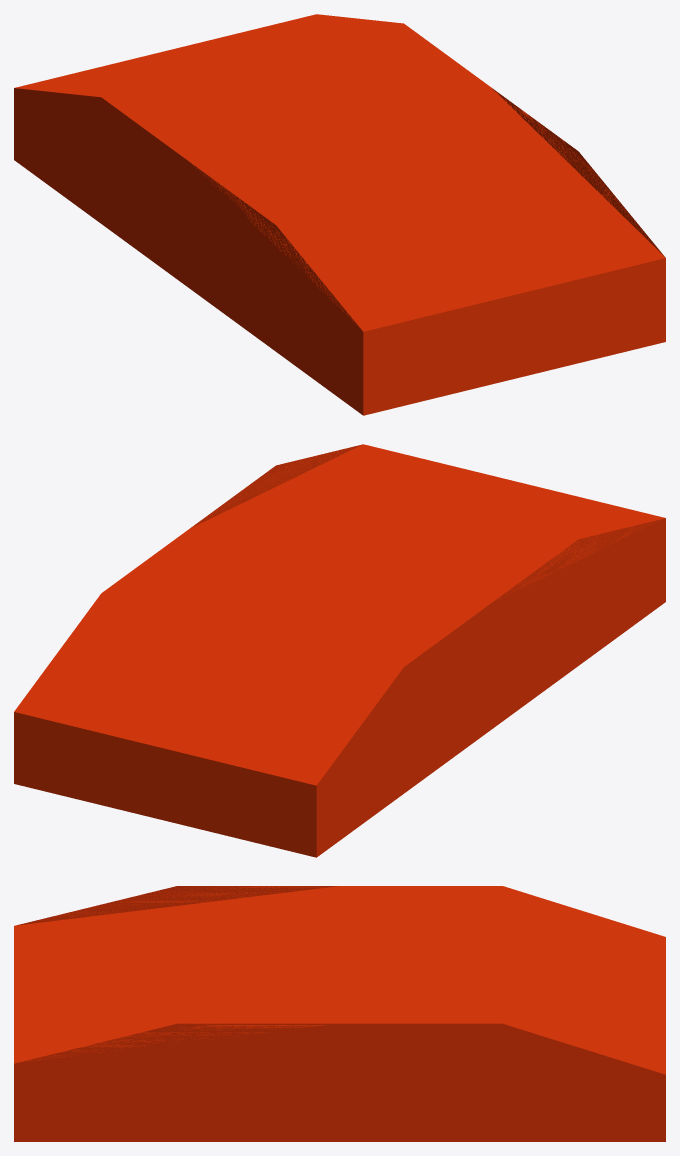
File: ponte.glb
3 renders of one model, top to bottom at view 1: azimuth 30°, elevation 25°; view 2: azimuth 150°, elevation 25°; view 3: azimuth 270°, elevation 25°, orthographic. The views are drawn at different scales.
Parts seen in each view (by area): view 1: Cube.001; view 2: Cube.001; view 3: Cube.001.
Boxes of the visible parts, left/top/right/bottom form: Cube.001: left=14, top=14, right=665, bottom=415; Cube.001: left=14, top=444, right=665, bottom=857; Cube.001: left=14, top=886, right=665, bottom=1141.
Size of the model in its own units: 2 by 0.8 by 4.
